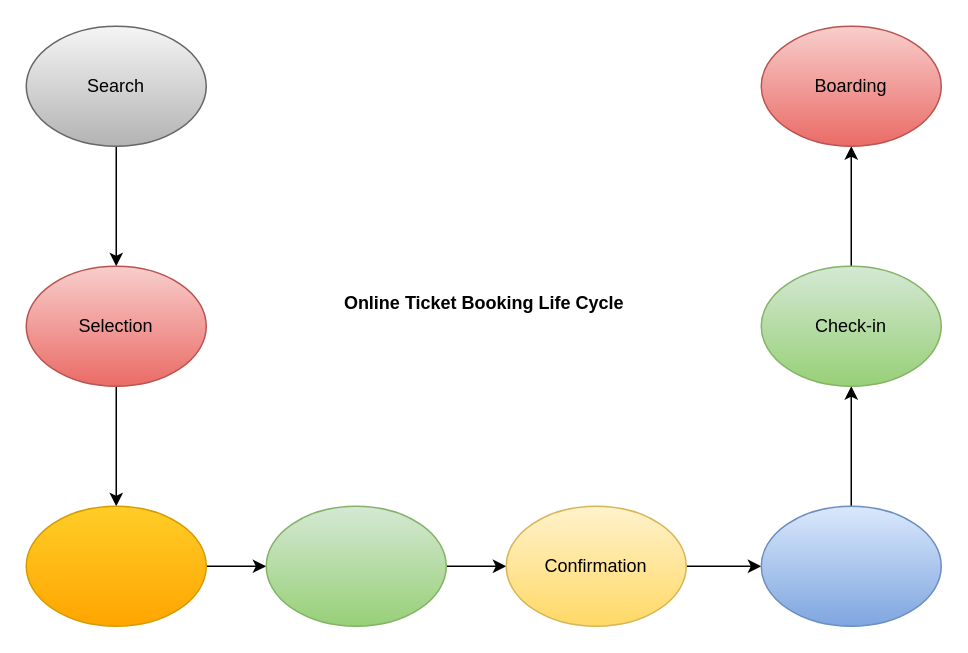
Image size: 968x653. Some labels were removed from this diagram. The shapes that lost their labels are listed below. From the top down, each one's centre as x and y in pixels, then its label:
At point (115, 565): "Booking".
At point (355, 565): "Payment".
At point (850, 565): "Ticket Generation".
